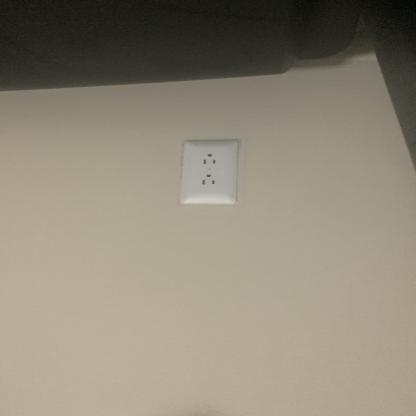OUTLET: (181, 141, 240, 203)
